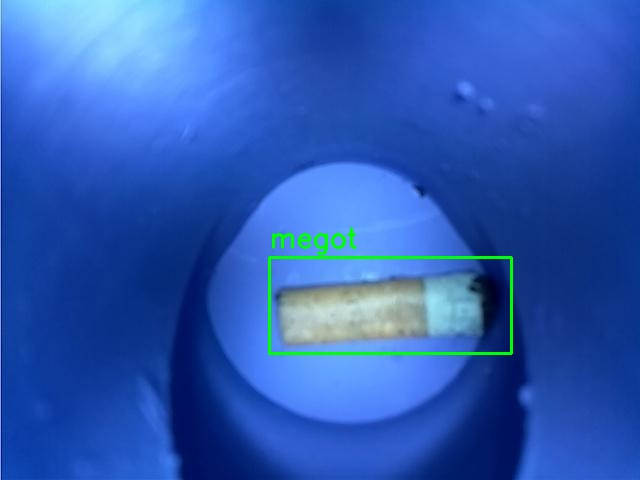megot: (269, 257, 511, 353)
